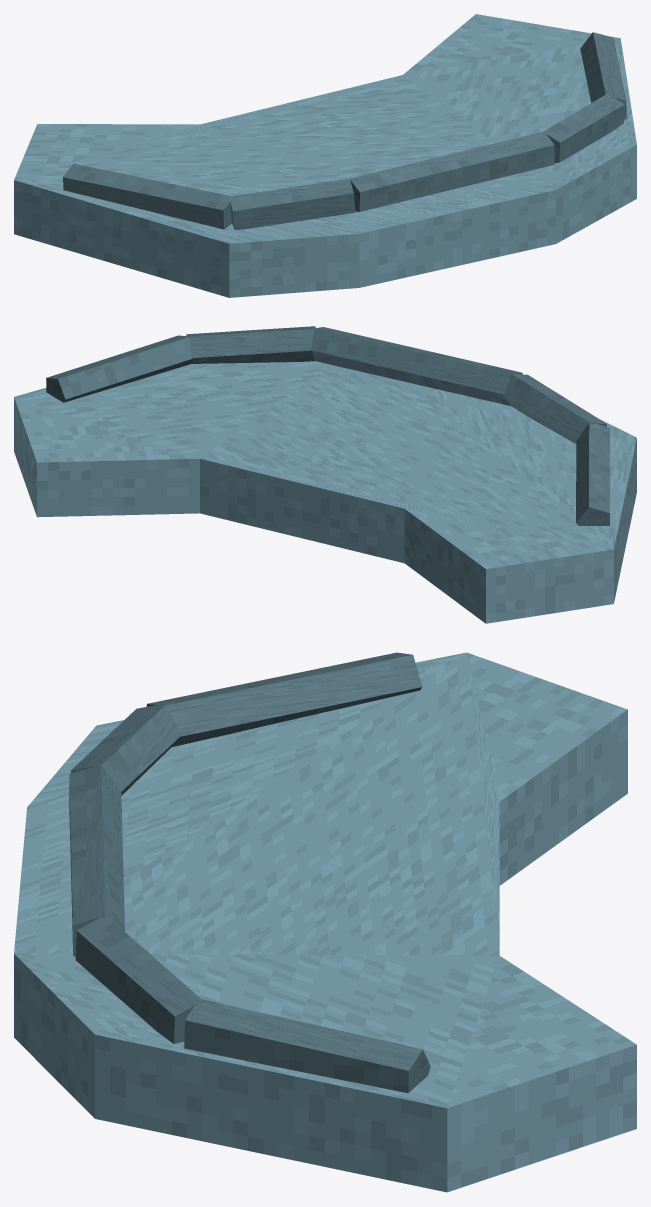
The model's file is throat_guard_nylon.glb.
3 renders of one model, top to bottom at view 1: azimuth 30°, elevation 25°; view 2: azimuth 150°, elevation 25°; view 3: azimuth 270°, elevation 25°, orthographic. The views are drawn at different scales.
Visible parts, largest first — view 1: block_curved protective guard, block_raised binding 2, block_raised binding 0, block_raised binding 1, block_raised binding 3, block_raised binding 4; view 2: block_curved protective guard, block_raised binding 2, block_raised binding 4, block_raised binding 3, block_raised binding 0, block_raised binding 1; view 3: block_curved protective guard, block_raised binding 4, block_raised binding 0, block_raised binding 2, block_raised binding 3, block_raised binding 1.
Boxes of the visible parts, x1,y1,x2,y2 form: block_curved protective guard: (14,14,636,297); block_raised binding 2: (349,131,554,211); block_raised binding 0: (63,163,231,229); block_raised binding 1: (229,178,355,229); block_raised binding 3: (543,94,624,163); block_raised binding 4: (580,32,626,119); block_curved protective guard: (14,361,636,623); block_raised binding 2: (310,327,522,405); block_raised binding 4: (46,335,193,402); block_raised binding 3: (186,326,315,363); block_raised binding 0: (576,423,609,525); block_raised binding 1: (503,374,606,443); block_curved protective guard: (14,652,636,1192); block_raised binding 4: (184,999,430,1093); block_raised binding 0: (146,652,422,746); block_raised binding 2: (69,764,124,956); block_raised binding 3: (75,915,203,1043); block_raised binding 1: (71,703,181,795).
Size of the model in its own units: 0.2173 by 0.0306 by 0.1255.
1 material, 1 textured.
